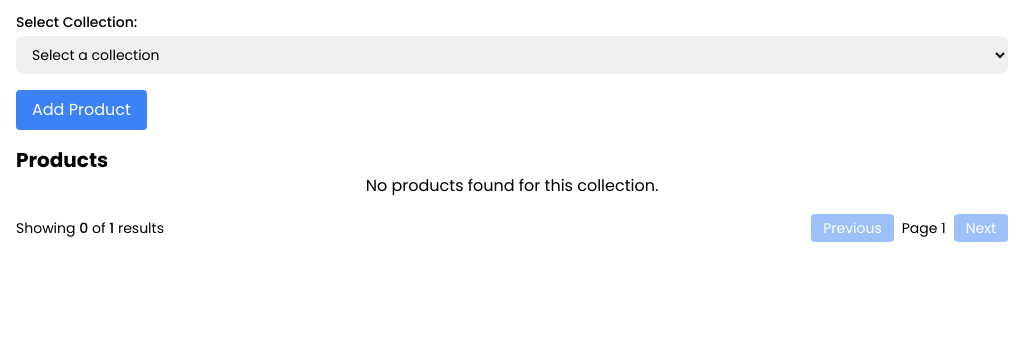
Test: ViewProducts › enables and handles previous button when not on first page
Select "Collection 1" in the dropdown labelled "Select Collection:" at [512, 55], box [16,36,1008,74]
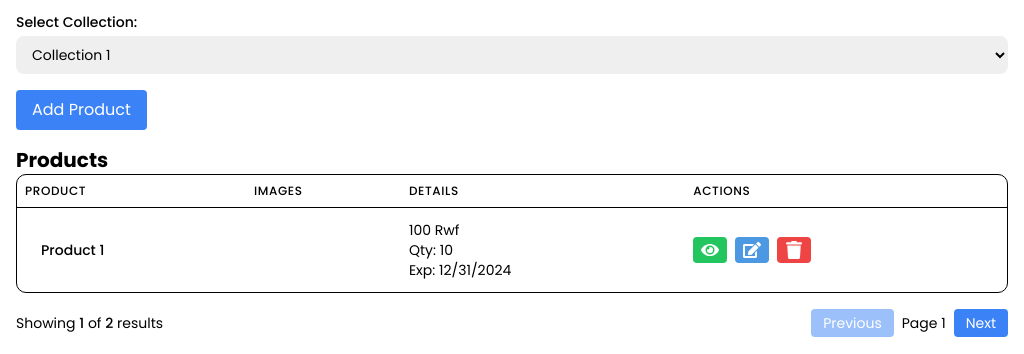
Expected: the text "Product 1" is shown, [41,240,104,260]
Click the button "Next" at [981, 323], box [954,309,1008,337]
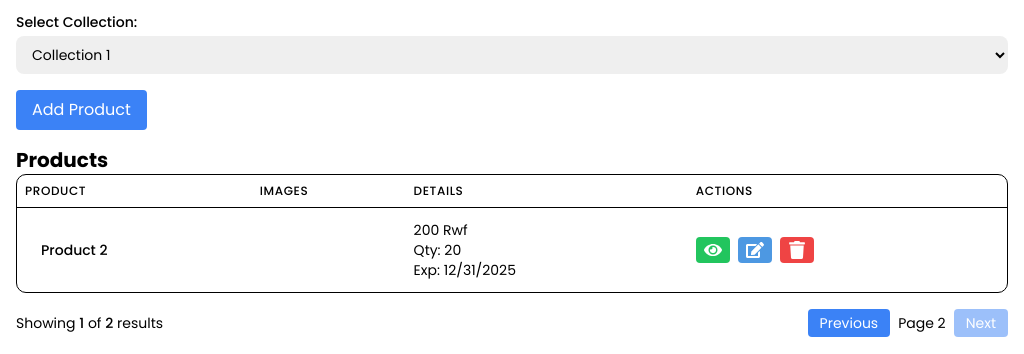
Expected: the text "Product 2" is shown, [41,240,108,260]
Expected: the button "Previous" is enabled
Click the button "Previous" at [849, 323], box [808,309,890,337]
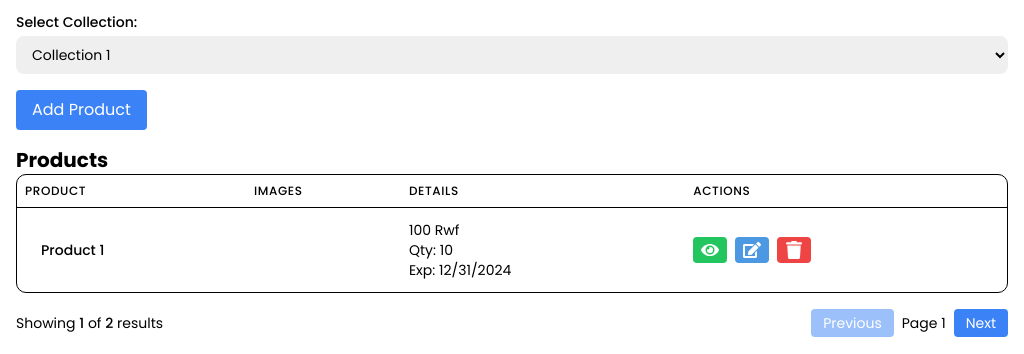
Expected: the text "Product 1" is shown, [41,240,104,260]
